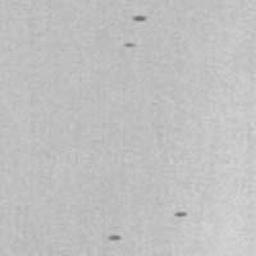Inclusion: (132, 14, 147, 23), (173, 210, 188, 218), (124, 41, 137, 50), (109, 233, 122, 242)
